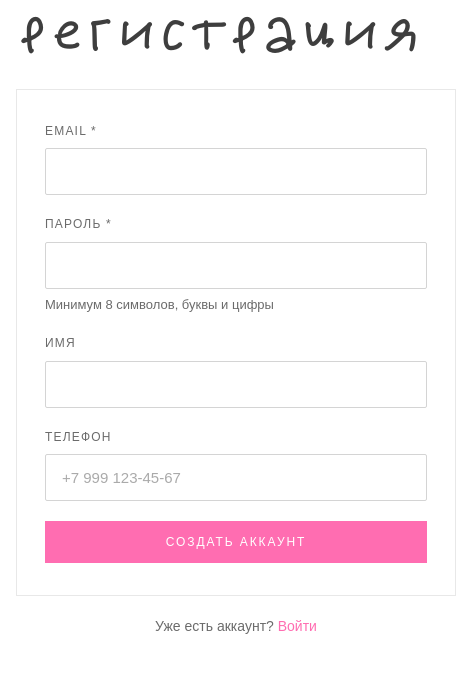
Test: Register page › shows validation errors for invalid fields
The width and height of the screenshot is (473, 697).
Click the button "Создать аккаунт": [236, 542] box 45,522 -> 427,564
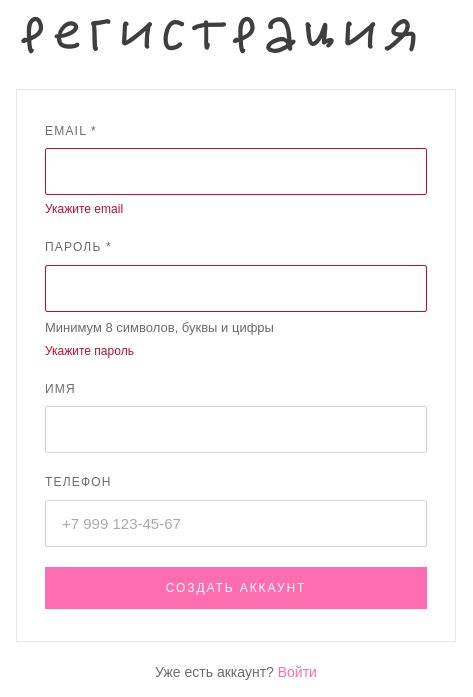
Check: the text "Укажите email" is shown, box 45,202 -> 123,216
Check: the text "Укажите пароль" is shown, box 45,344 -> 134,358
